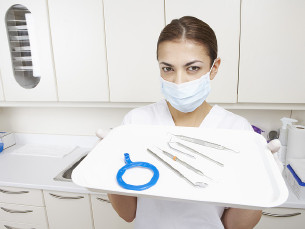face_mask: (159, 43, 210, 112)
